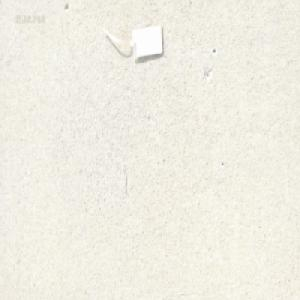LuggageTag: (99, 20, 165, 61)
